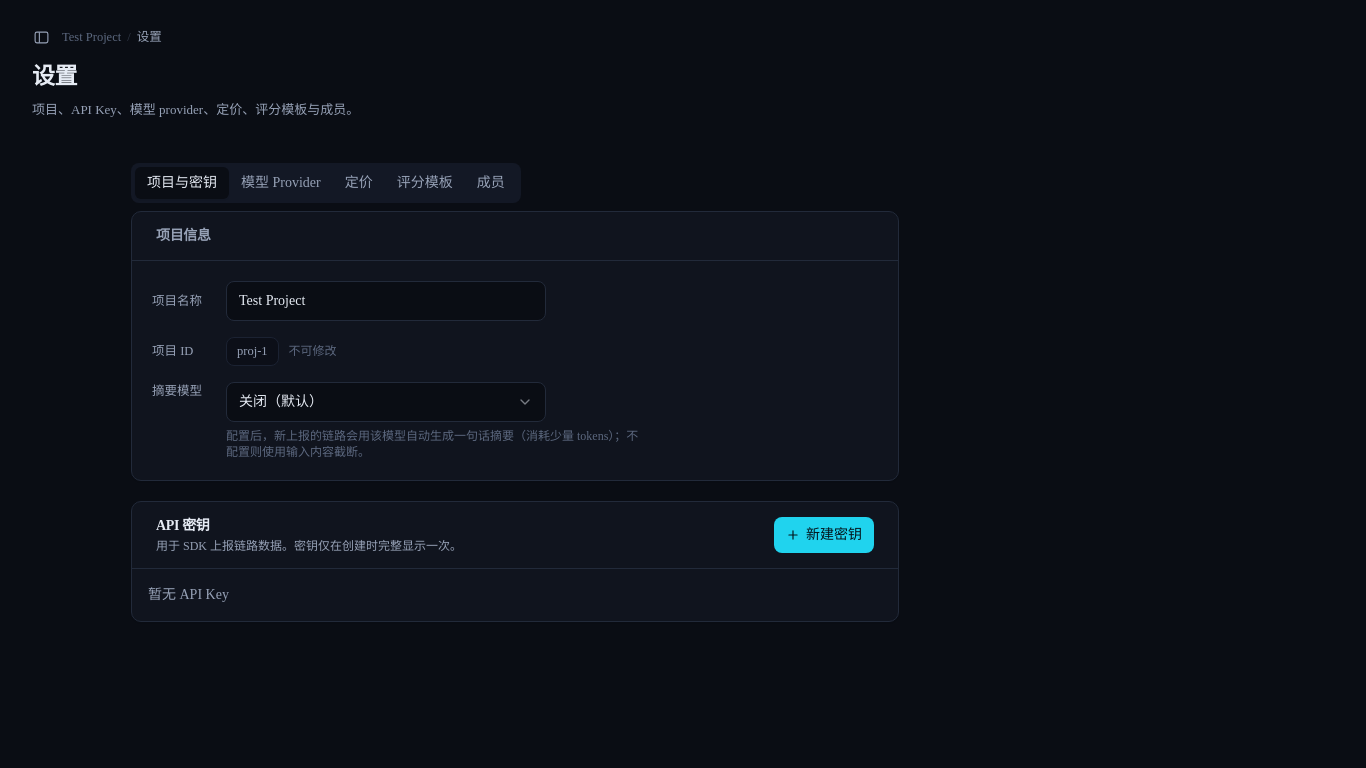
Test: 评分模板 tab › renders the 系统默认 pseudo-row with its fixed description and 不可编辑 chip
Press the mouse on the tab "评分模板" at (425, 183), box [385,167,465,199]
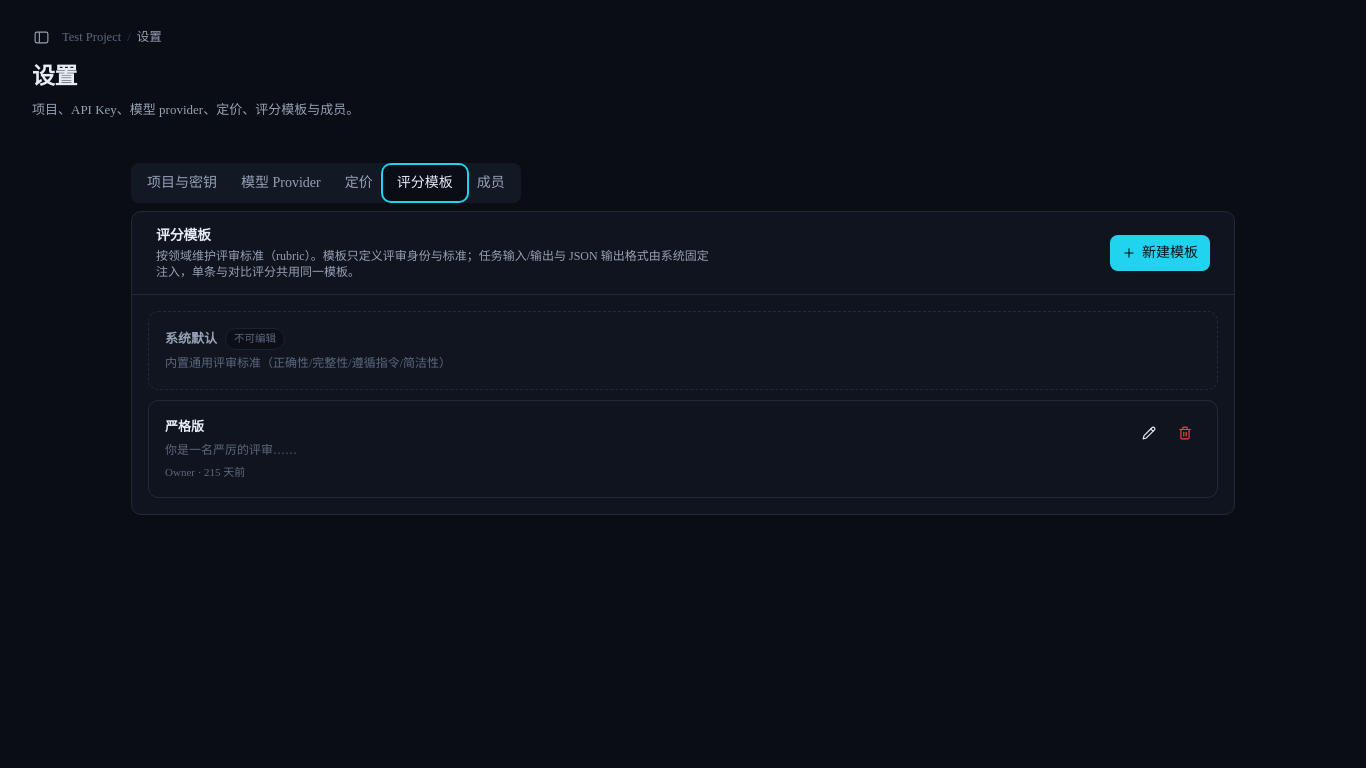
Check: the text "系统默认" is shown, box [165,329,217,349]
Check: the text "不可编辑" is shown, box [225,328,285,350]
Check: the text "内置通用评审标准（正确性/完整性/遵循指令/简洁性）" is shown, box [165,356,451,370]
